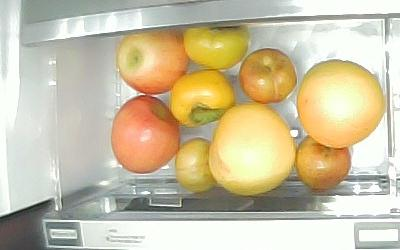apple: (110, 95, 179, 174), (116, 29, 188, 94)
grapefruit: (207, 102, 296, 196), (296, 59, 386, 148)
persimmon: (170, 70, 234, 127), (181, 25, 248, 68)
prune: (295, 133, 351, 191), (239, 48, 297, 103), (176, 138, 215, 193)
